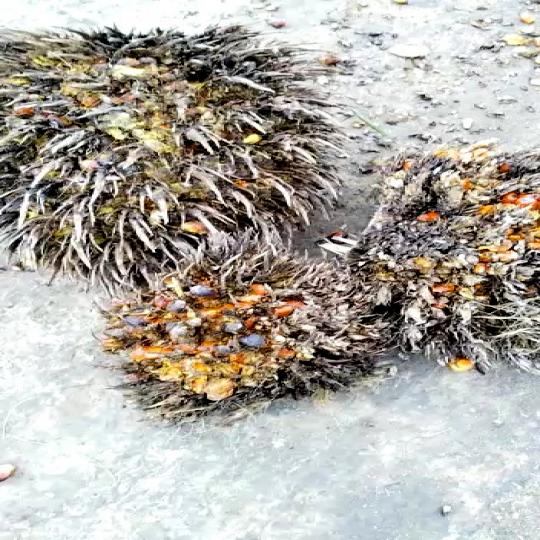terlalu masak: (0, 38, 312, 278), (90, 238, 395, 421), (349, 152, 540, 352)
